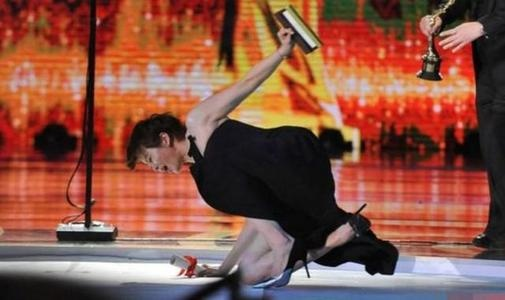falling: (124, 28, 392, 296)
